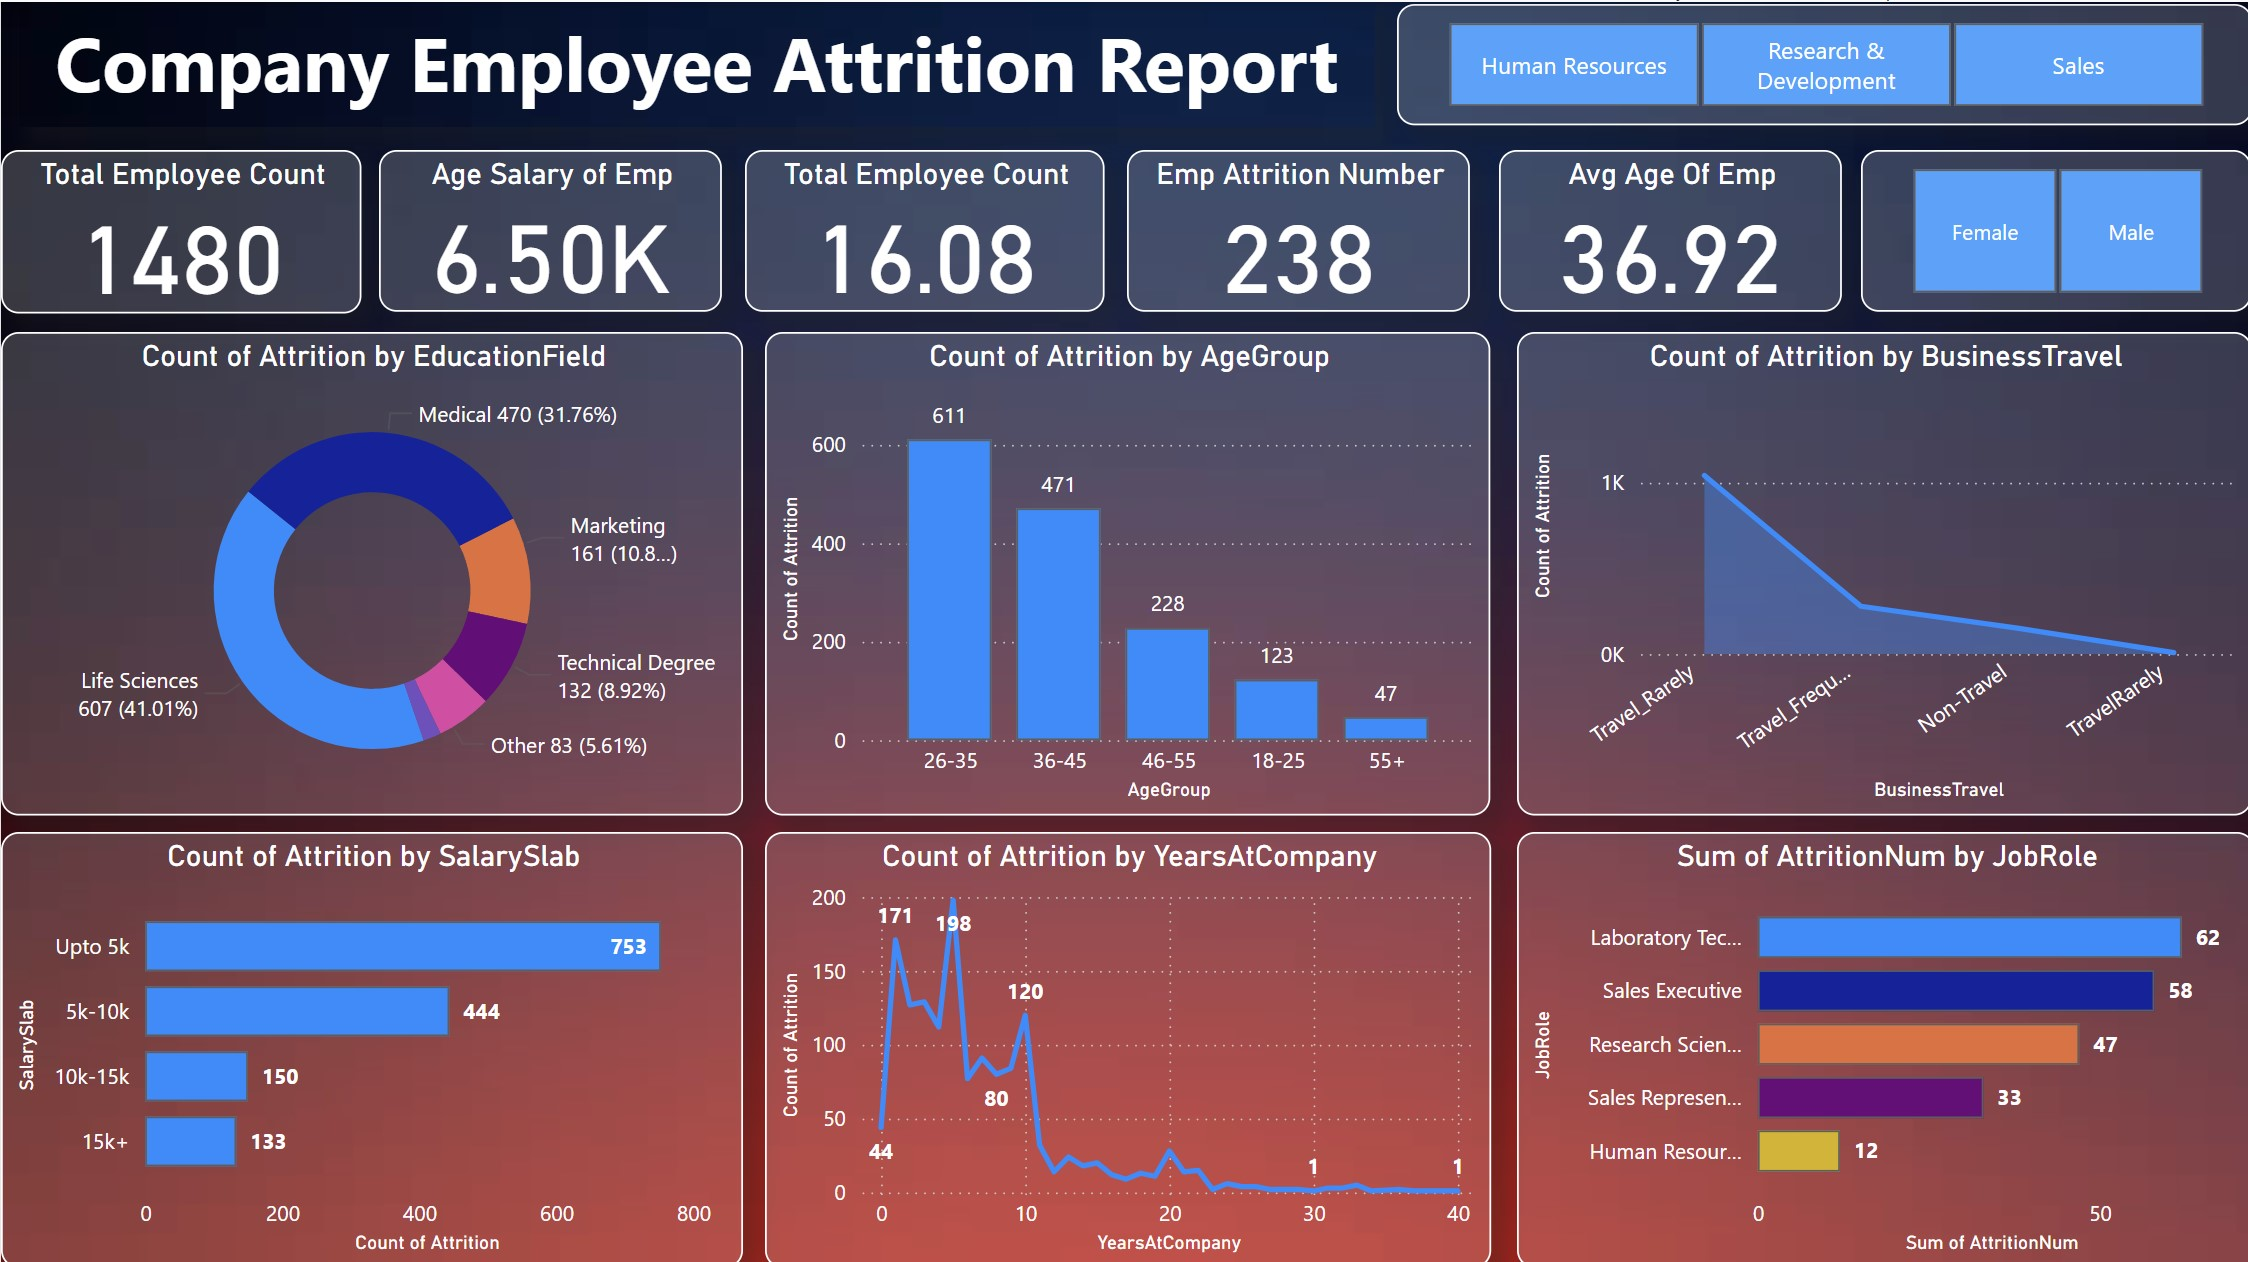

The page's visual inventory and layout, read from the dashboard file:
{"tool":"powerbi","page":{"name":"Page 1","canvas":[1280,720],"ordinal":0},"visuals":[{"type":"textbox","box":[9.9,0,771,70.8],"z":0},{"type":"slicer","fields":{"Values":["HR_Analytics.Department"]},"box":[793.7,1.4,486.3,69.1],"z":1000},{"type":"card","title":"Total Employee Count","fields":{"Values":["Sum(HR_Analytics.EmployeeCount)"]},"box":[0,83.6,205,93.1],"z":2000},{"type":"card","title":"Age Salary of Emp","fields":{"Values":["Avg(HR_Analytics.MonthlyIncome)"]},"box":[215.4,84,195,92.1],"z":3000},{"type":"card","title":"Total Employee Count","fields":{"Values":["HR_Analytics.AttritionRate"]},"box":[422.6,84,204.5,92.1],"z":4000},{"type":"card","title":"Emp Attrition Number","fields":{"Values":["Sum(HR_Analytics.AttritionNum)"]},"box":[640.7,84,195,92.1],"z":5000},{"type":"card","title":"Avg Age Of Emp","fields":{"Values":["Avg(HR_Analytics.Age)"]},"box":[852,84,195,92.1],"z":6000},{"type":"slicer","fields":{"Values":["HR_Analytics.Gender"]},"box":[1057.9,84,222.1,92.1],"z":7000},{"type":"donutChart","fields":{"Category":["HR_Analytics.EducationField"],"Y":["CountNonNull(HR_Analytics.Attrition)"]},"box":[0,187.5,422.2,275.2],"z":8000},{"type":"columnChart","fields":{"Y":["CountNonNull(HR_Analytics.Attrition)"],"Category":["HR_Analytics.AgeGroup"]},"box":[434.3,187.5,412.7,275.2],"z":9000},{"type":"areaChart","fields":{"Category":["HR_Analytics.BusinessTravel"],"Y":["CountNonNull(HR_Analytics.Attrition)"]},"box":[861.9,187.5,418.1,275.2],"z":10000},{"type":"clusteredBarChart","fields":{"Y":["CountNonNull(HR_Analytics.Attrition)"],"Category":["HR_Analytics.SalarySlab"]},"box":[0,472.1,422.2,248.2],"z":11000},{"type":"lineChart","fields":{"Y":["CountNonNull(HR_Analytics.Attrition)"],"Category":["HR_Analytics.YearsAtCompany"]},"box":[434,472,413,248],"z":12000},{"type":"clusteredBarChart","fields":{"Category":["HR_Analytics.JobRole"],"Y":["Sum(HR_Analytics.AttritionNum)"]},"box":[861.9,472.1,419.5,248.2],"z":13000}]}

Visuals, with their boxes in screenshot pixels (x1, y1, x2, y2), scaled from the page's 1280x720 canvas onto the 2248x1262 screenshot:
textbox: 17:0:1371:124
slicer - HR_Analytics.Department: 1394:2:2247:124
"Total Employee Count" card: 0:147:360:310
"Age Salary of Emp" card: 378:147:721:309
"Total Employee Count" card: 742:147:1101:309
"Emp Attrition Number" card: 1125:147:1468:309
"Avg Age Of Emp" card: 1496:147:1839:309
slicer - HR_Analytics.Gender: 1858:147:2247:309
donutChart - HR_Analytics.EducationField x CountNonNull(HR_Analytics.Attrition): 0:329:741:811
columnChart - CountNonNull(HR_Analytics.Attrition) x HR_Analytics.AgeGroup: 763:329:1488:811
areaChart - HR_Analytics.BusinessTravel x CountNonNull(HR_Analytics.Attrition): 1514:329:2247:811
clusteredBarChart - CountNonNull(HR_Analytics.Attrition) x HR_Analytics.SalarySlab: 0:827:741:1261
lineChart - CountNonNull(HR_Analytics.Attrition) x HR_Analytics.YearsAtCompany: 762:827:1488:1261
clusteredBarChart - HR_Analytics.JobRole x Sum(HR_Analytics.AttritionNum): 1514:827:2247:1261
